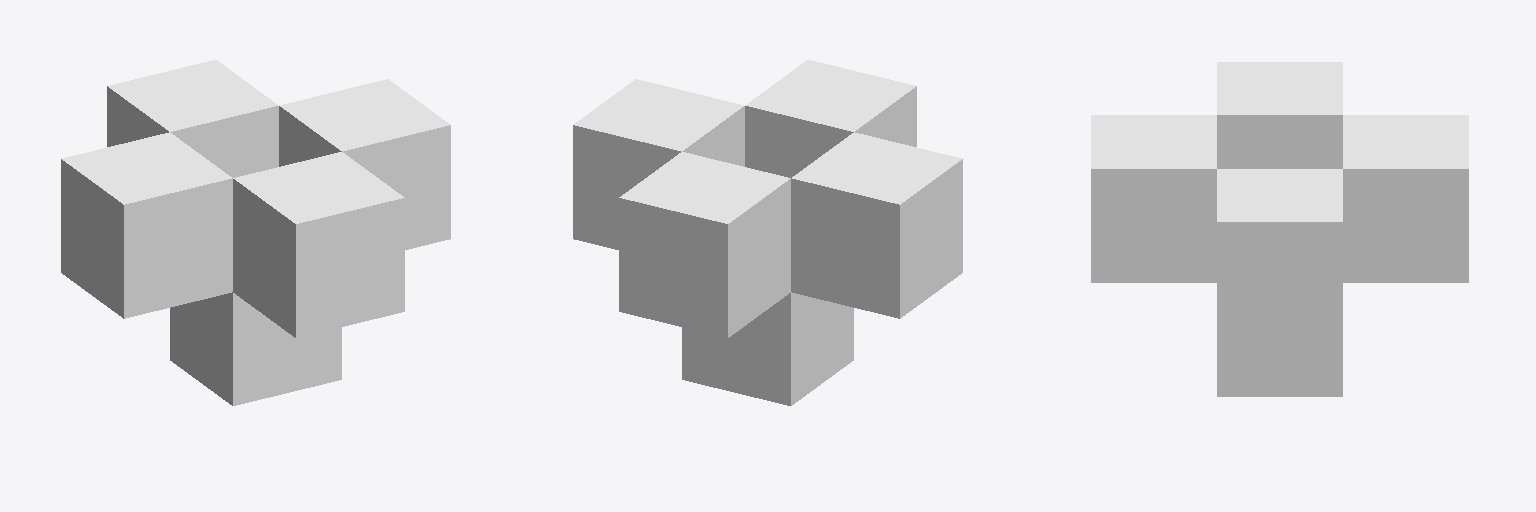
Rendered from corn_sprout.obj.
3 renders of one model, left to right at view 1: azimuth 30°, elevation 25°; view 2: azimuth 150°, elevation 25°; view 3: azimuth 270°, elevation 25°, orthographic.
Parts seen in each view (by area): view 1: object 1; view 2: object 1; view 3: object 1.
Part boxes in pixels (bbox=[...]): object 1: bbox=[61, 60, 450, 405]; object 1: bbox=[573, 60, 962, 405]; object 1: bbox=[1091, 62, 1468, 396].
Size of the model in its own units: 0.3 by 0.2 by 0.3.